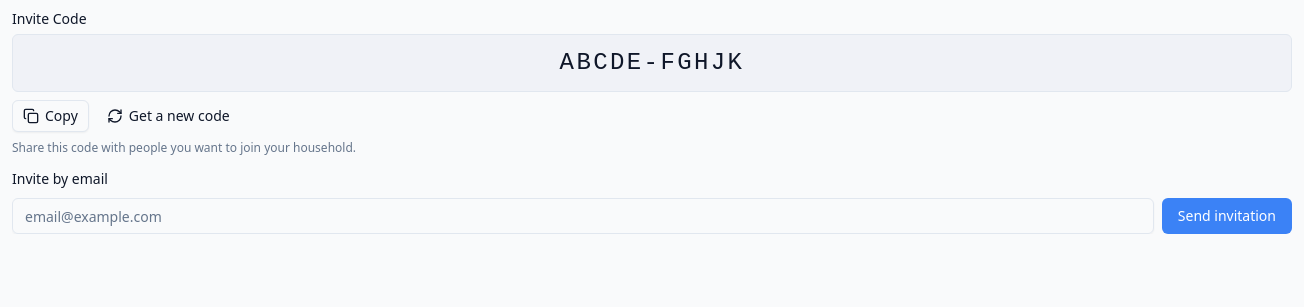
Test: InviteForm invite by email › shows Invitation sent on success
In the field labelled "Invite by email": {"x": 583, "y": 216} [12, 198, 1154, 234], type "pat@example.com"
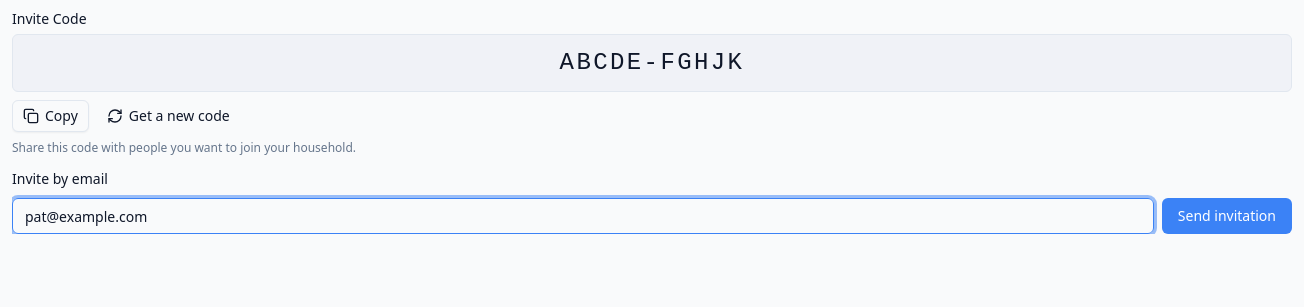
Click the button "Send invitation": {"x": 1227, "y": 216} [1162, 198, 1292, 234]
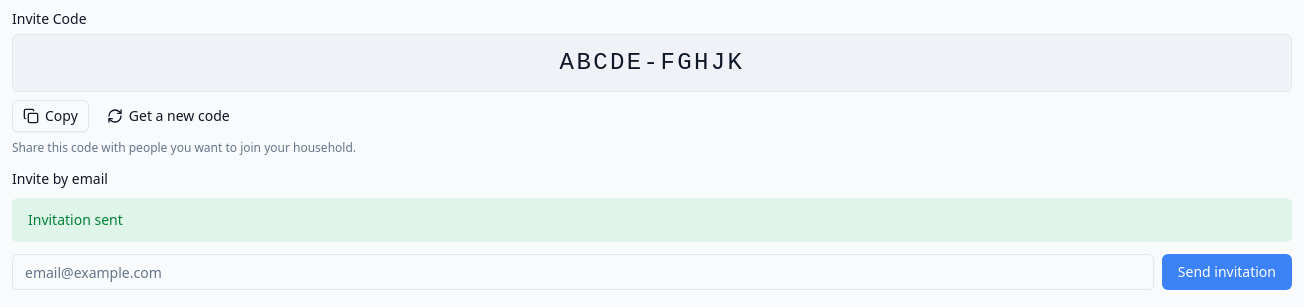
Check: the text "Invitation sent" is shown, box [12, 198, 1292, 242]
